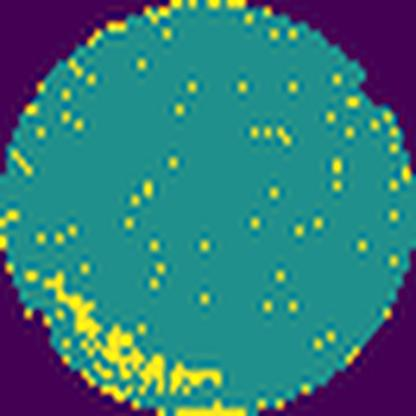Edge-Loc: (42, 271, 141, 377), (171, 362, 225, 393), (137, 351, 169, 395)
